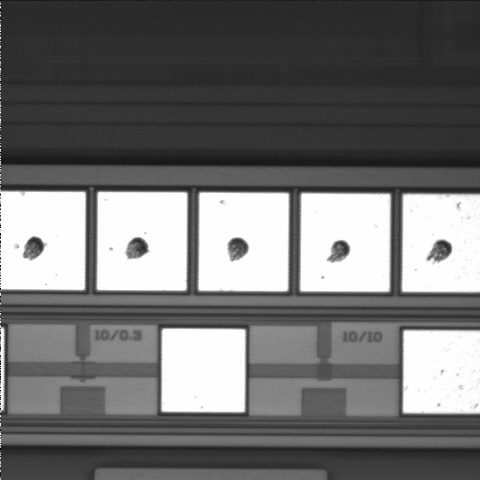pad: (97, 192, 187, 291), (300, 193, 390, 292), (199, 193, 289, 291), (162, 329, 245, 412)
